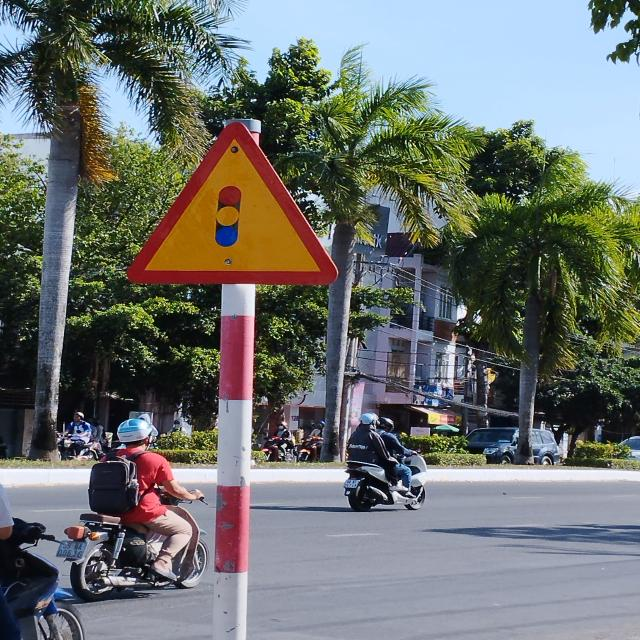Duong_Co_Go_Giam_Toc: (126, 122, 338, 285)
